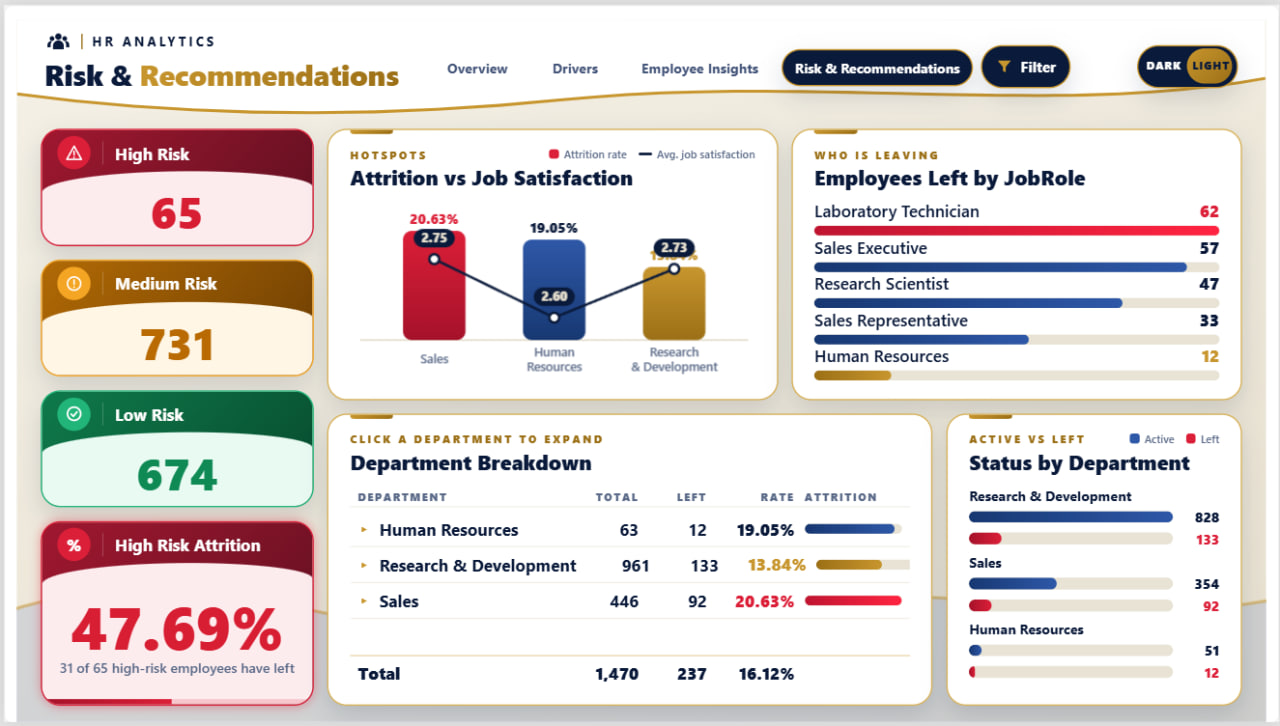

The page's visual inventory and layout, read from the dashboard file:
{"tool":"powerbi","page":{"name":"Risk HTML","canvas":[1280,720],"ordinal":4},"visuals":[{"type":"htmlContent443BE3AD55E043BF878BED274D3A6855","fields":{"content":["DAX.HR Risk HTML"]},"box":[0,0,1279.7,720.3],"z":0},{"type":"actionButton","box":[539.6,43.4,81.1,39.6],"z":9000},{"type":"actionButton","box":[445.3,26.4,79.2,39.6],"z":10000},{"type":"actionButton","box":[639.6,43.4,132.1,39.6],"z":11000},{"type":"actionButton","box":[39.6,26.4,358.5,71.7],"z":12000}]}

Visuals, with their boxes in screenshot pixels (x1, y1, x2, y2), scaled from the page's 1280x720 canvas onto the 1280x726 screenshot:
htmlContent443BE3AD55E043BF878BED274D3A6855 - DAX.HR Risk HTML: region(0, 0, 1279, 725)
actionButton: region(540, 44, 621, 84)
actionButton: region(445, 27, 524, 67)
actionButton: region(640, 44, 772, 84)
actionButton: region(40, 27, 398, 99)
